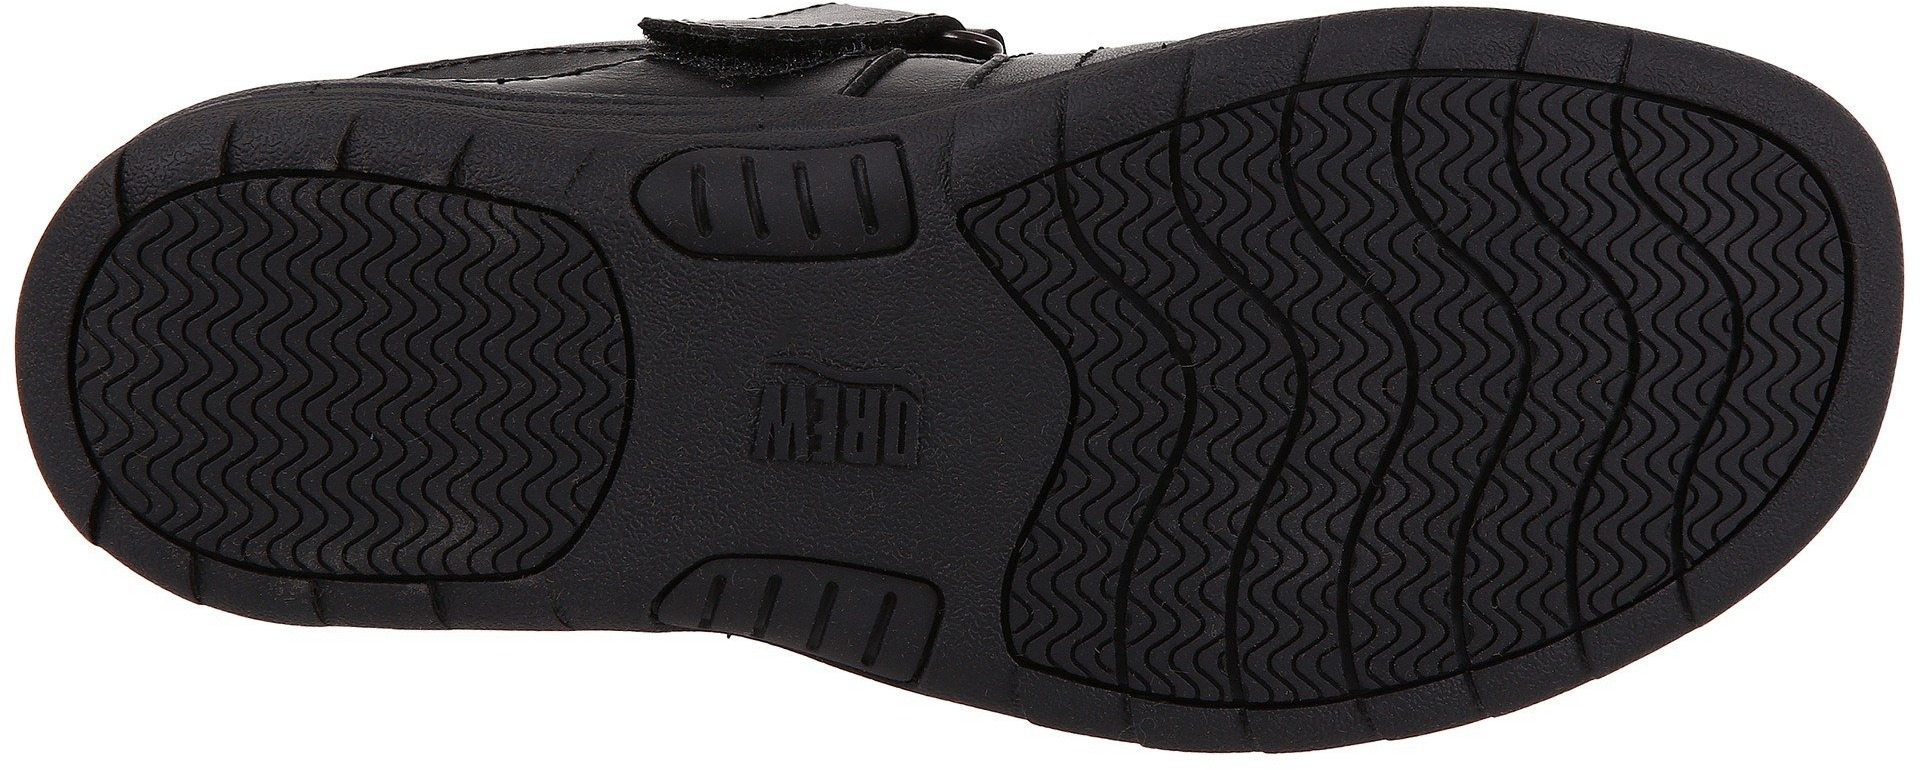chevron: (1494, 121, 1752, 375), (1053, 160, 1296, 400), (338, 203, 577, 439), (1071, 416, 1304, 628), (104, 244, 322, 462), (1307, 108, 1484, 322), (1506, 379, 1700, 575), (1307, 335, 1498, 518), (1310, 521, 1489, 679), (337, 449, 457, 566), (1704, 384, 1804, 480)
other: (643, 280, 762, 414), (929, 357, 1051, 485)
text: (768, 344, 922, 499)
